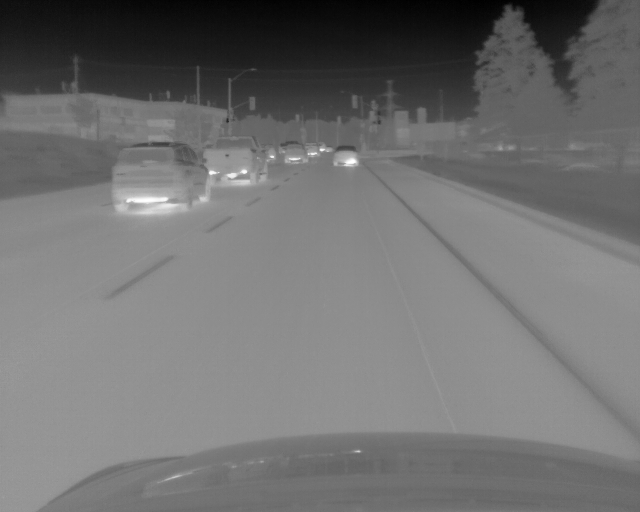car: (112, 141, 210, 211), (203, 135, 267, 185), (332, 146, 360, 167), (283, 143, 307, 164), (262, 141, 275, 161), (305, 141, 319, 157)
